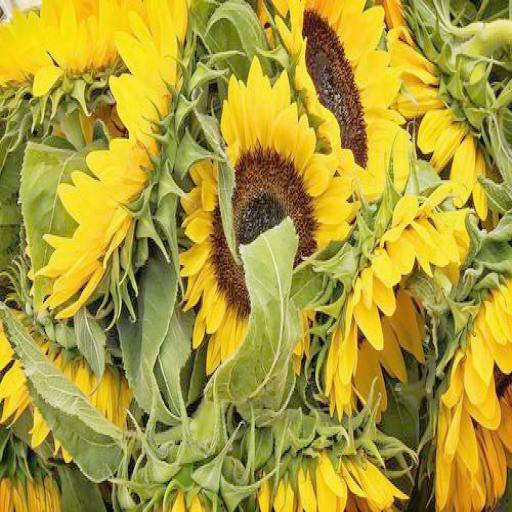sunflower: (180, 56, 356, 382), (433, 275, 512, 512)
